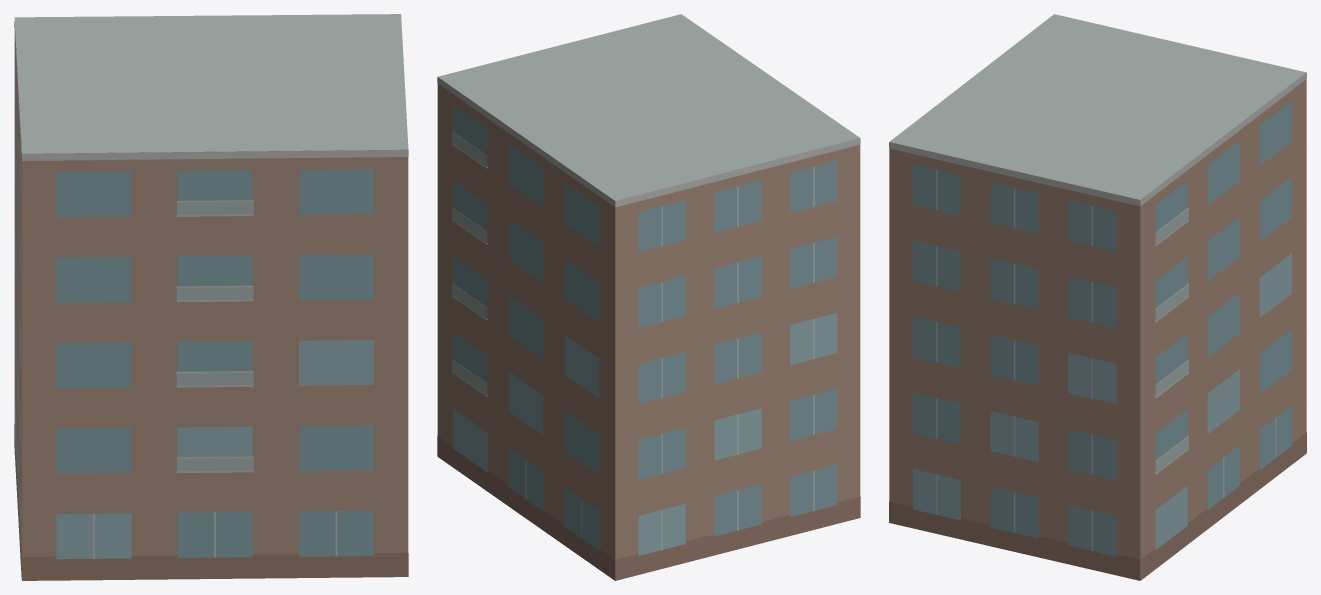
File: survey-upis-32846939.glb
The picture shows the model from 3 angles, left to right: view 1: azimuth 30°, elevation 25°; view 2: azimuth 150°, elevation 25°; view 3: azimuth 270°, elevation 25°; orthographic projection. The views are drawn at different scales.
Visible parts, largest first — view 1: survey-upis-32846939.tmp; view 2: survey-upis-32846939.tmp; view 3: survey-upis-32846939.tmp.
Part boxes in pixels (<box>): survey-upis-32846939.tmp: <box>14,14,408,580</box>; survey-upis-32846939.tmp: <box>437,14,860,580</box>; survey-upis-32846939.tmp: <box>889,14,1306,580</box>.
Size of the model in its own units: 15.09 by 14.4 by 14.32.
